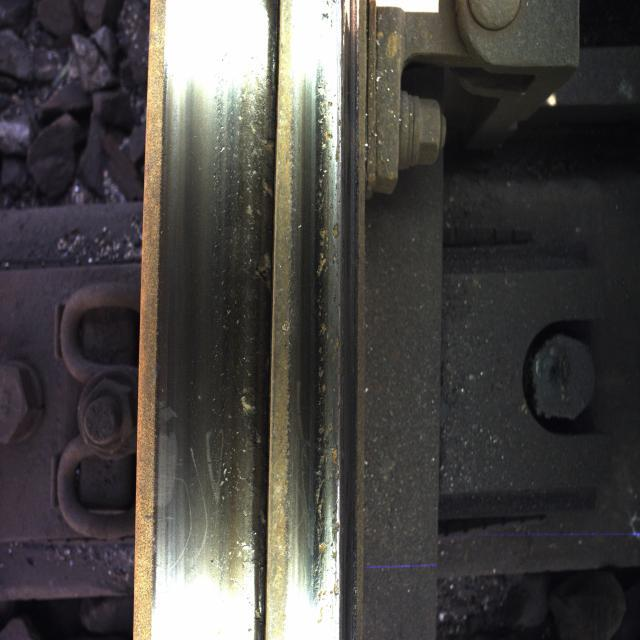scar: (205, 53, 270, 602), (284, 58, 338, 600)
